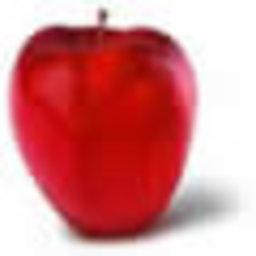apple: (4, 19, 199, 235)
